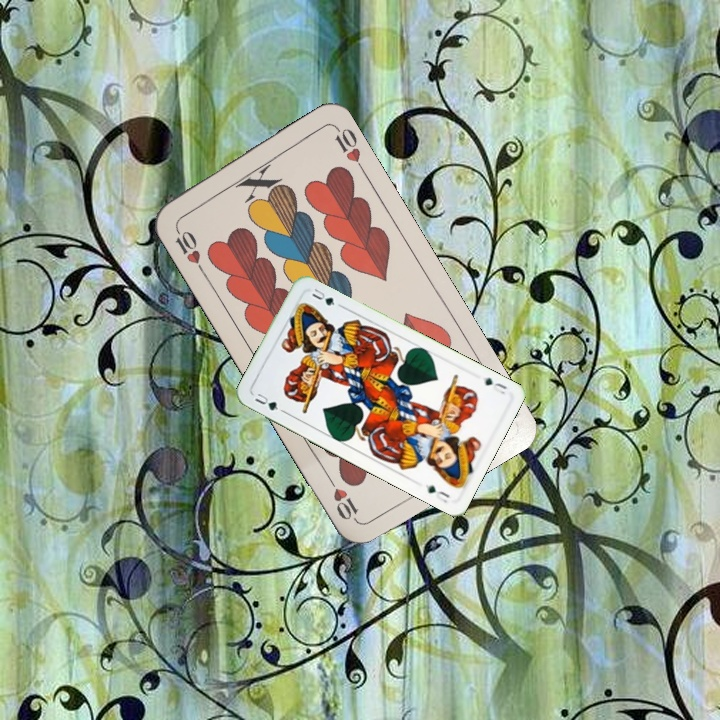GU: (478, 373, 510, 397), (251, 389, 281, 413)
H10: (171, 221, 207, 276)
